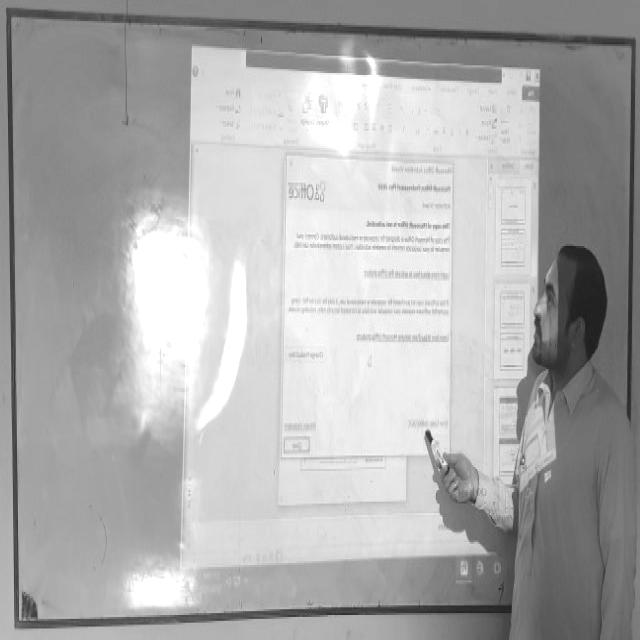Instructor: (512, 234, 630, 636)
Slide: (179, 37, 541, 603)
White-board: (7, 13, 633, 627)
